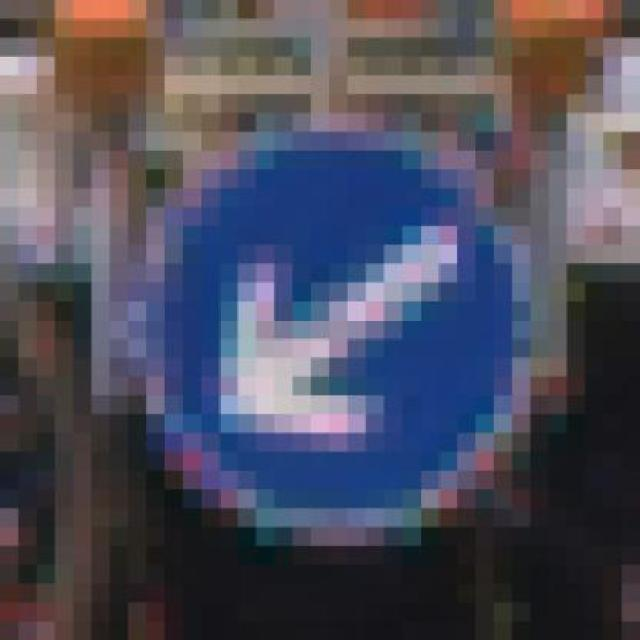Keep-Left: (91, 112, 567, 565)
